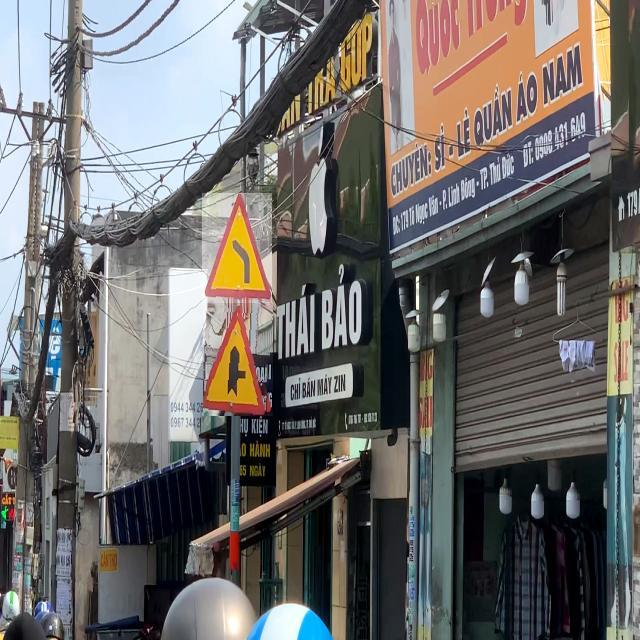W-201a: (203, 193, 273, 303)
W-207b: (203, 302, 273, 416)
